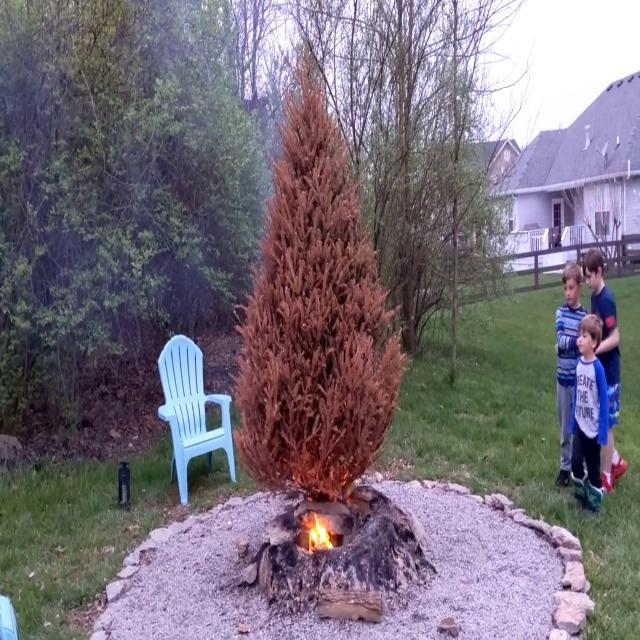Fire: (304, 510, 336, 554)
